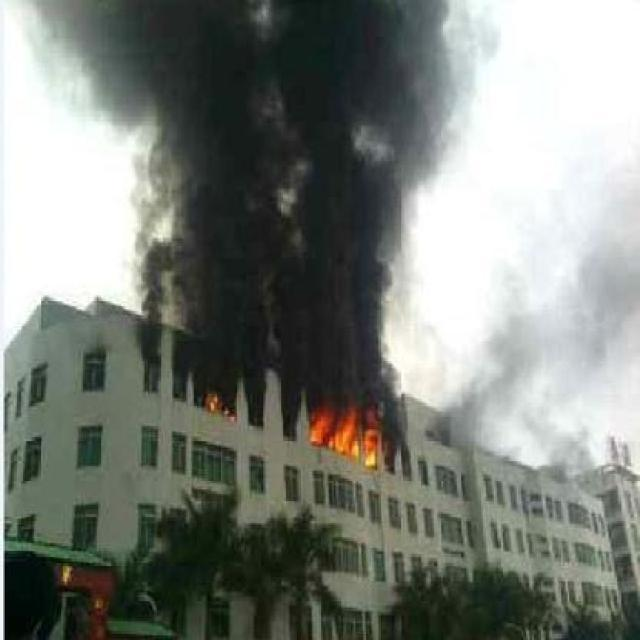Fire: (309, 398, 382, 467), (207, 392, 237, 419), (384, 442, 391, 464)
Smoke: (38, 5, 466, 392), (386, 396, 408, 444), (282, 396, 300, 438), (250, 396, 264, 424)
